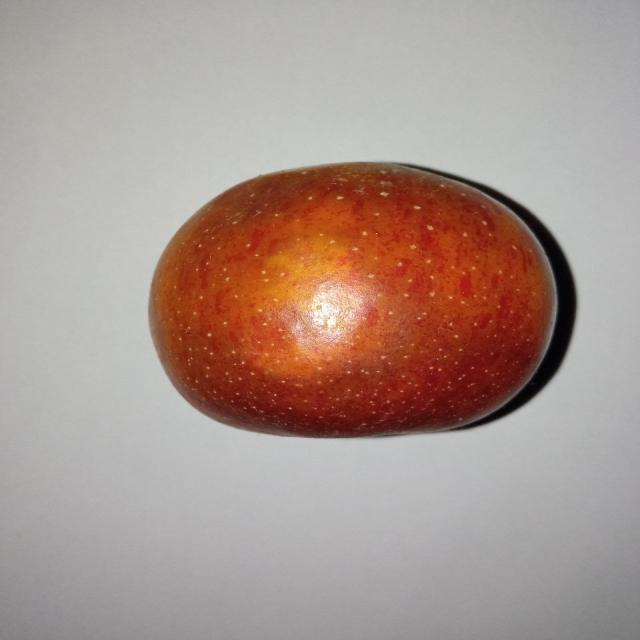fresh_apple: (146, 160, 562, 438)
